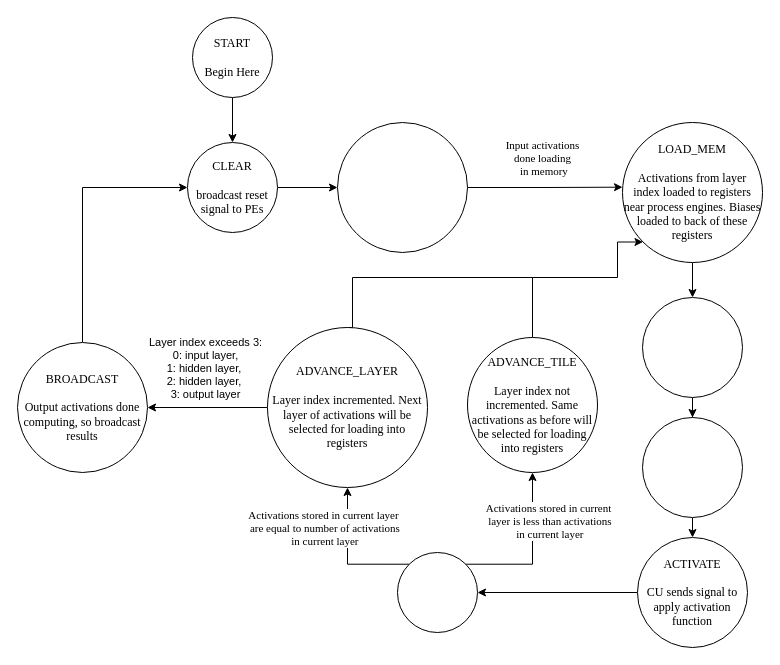
Image size: 780x665. Some labels were removed from this diagram. Each missing label, with the centre of its shape:
"BIAS CU sends signal to bias results" goes at point 692,467.
"IDLE Select layer address 0 for loading input activations to registers" goes at point 402,187.
"MAC CU sends signal to begin MAC operation" goes at point 692,347.
"STORE Activations stored in memory" goes at point 437,592.
